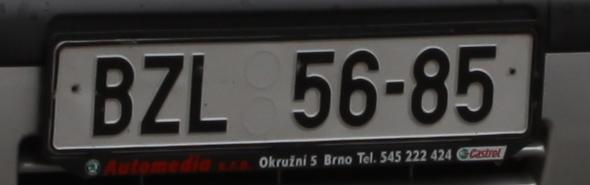-: (385, 81, 405, 95)
5: (294, 52, 332, 130), (457, 47, 494, 122)
6: (341, 51, 377, 127)
8: (411, 48, 448, 124)
B: (93, 57, 132, 136)
L: (190, 53, 229, 133)
Z: (143, 55, 178, 135)
